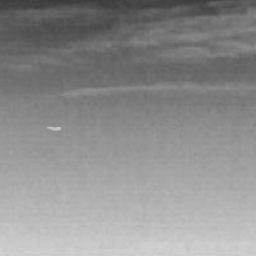Target: (45, 126, 63, 133)
